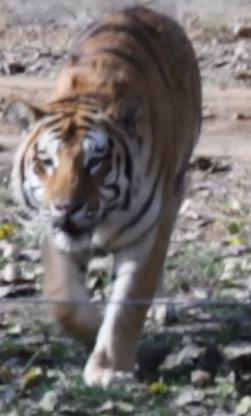tiger: (11, 6, 200, 385)
